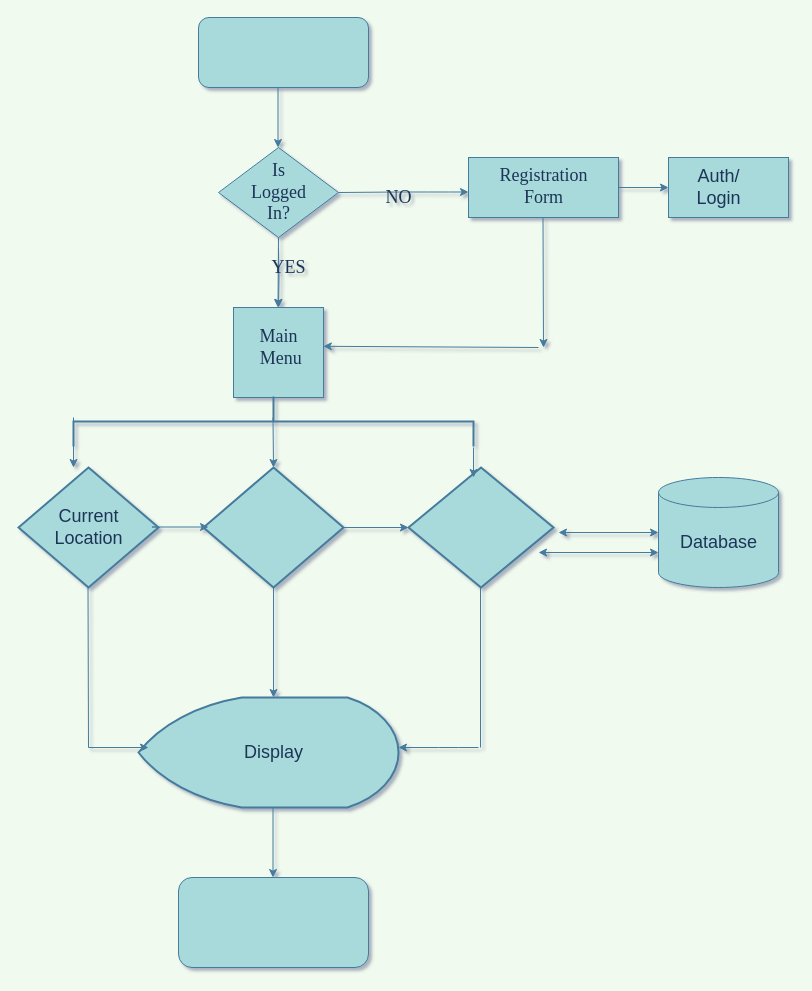
This 812x991 diagram has some shape labels left out. Here are the shapes that lost their labels. From the top down, the centre of each, then its label:
[283,52]: Application Opens
[273,527]: Area Location
[480,527]: Speech To Text
[273,922]: Application Closes
